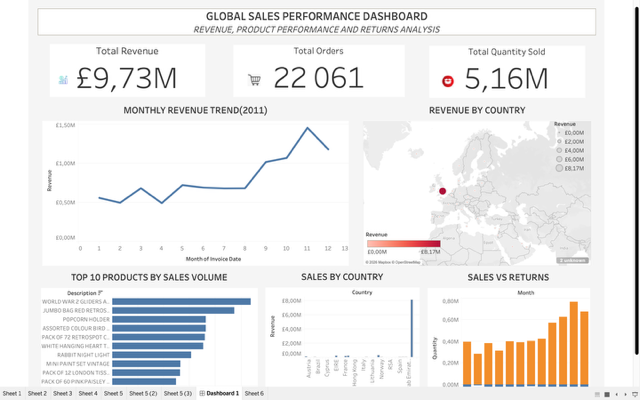

This screenshot's page, from the dashboard's own definition file:
{"tool":"tableau","page":{"name":"Dashboard 1","canvas":[1320,960],"ordinal":0},"visuals":[{"type":"dashboard-object","box":[8,8,1304,944]},{"type":"title","box":[33,33,1256,60]},{"type":"worksheet","title":"Sheet 5","mark":"Text","box":[60,98,360,137]},{"type":"worksheet","title":"Sheet 5 (2)","mark":"Text","box":[473,100,437,217]},{"type":"image","param":"Image/Business profit gradient linear icon.jpeg","box":[68,179,44,34]},{"type":"image","param":"Image/4a4110d137fc87237a0637a90a81e124.jpg","box":[505,180,32,28]},{"type":"image","param":"Image/a1adcd589c31c08ef43481c03ed95e85.jpg","box":[943,184,26,27]},{"type":"worksheet","title":"Sheet 1","mark":"Line","rows":["Revenue"],"cols":["InvoiceDate"],"box":[43,243,690,369]},{"type":"worksheet","title":"Sheet 3","mark":"Automatic","box":[765,243,514,370]},{"type":"legend","title":"Sheet 3","param":"[federated.02fqv5l14b6oa61flc1j40xbdrr9].[sum:Revenue:qk]","box":[1195,284,81,137]},{"type":"legend","title":"Sheet 3","param":"[federated.02fqv5l14b6oa61flc1j40xbdrr9].[sum:Revenue:qk]","box":[771,533,173,53]},{"type":"worksheet","title":"Sheet 6","mark":"Automatic","rows":["Revenue"],"cols":["Country"],"box":[545,618,347,320]},{"type":"worksheet","title":"Sheet 2","mark":"Automatic","rows":["Description"],"cols":["Quantity"],"box":[40,619,488,335]},{"type":"worksheet","title":"Sheet 4","mark":"Automatic","rows":["Quantity"],"cols":["Month"],"box":[910,619,407,318]}]}

Visuals, with their boxes on the page's 1320x960 design canvas (x1, y1, x2, y2). These are canvas units, not pixel positions in the 640x400 screenshot, which may show the page scaled, cropped or inside an application window:
dashboard-object: {"left": 8, "top": 8, "right": 1312, "bottom": 952}
title: {"left": 33, "top": 33, "right": 1289, "bottom": 93}
"Sheet 5" worksheet (Text marks): {"left": 60, "top": 98, "right": 420, "bottom": 235}
"Sheet 5 (2)" worksheet (Text marks): {"left": 473, "top": 100, "right": 910, "bottom": 317}
image: {"left": 68, "top": 179, "right": 112, "bottom": 213}
image: {"left": 505, "top": 180, "right": 537, "bottom": 208}
image: {"left": 943, "top": 184, "right": 969, "bottom": 211}
"Sheet 1" worksheet (Line marks): {"left": 43, "top": 243, "right": 733, "bottom": 612}
"Sheet 3" worksheet: {"left": 765, "top": 243, "right": 1279, "bottom": 613}
"Sheet 3" legend: {"left": 1195, "top": 284, "right": 1276, "bottom": 421}
"Sheet 3" legend: {"left": 771, "top": 533, "right": 944, "bottom": 586}
"Sheet 6" worksheet: {"left": 545, "top": 618, "right": 892, "bottom": 938}
"Sheet 2" worksheet: {"left": 40, "top": 619, "right": 528, "bottom": 954}
"Sheet 4" worksheet: {"left": 910, "top": 619, "right": 1317, "bottom": 937}
